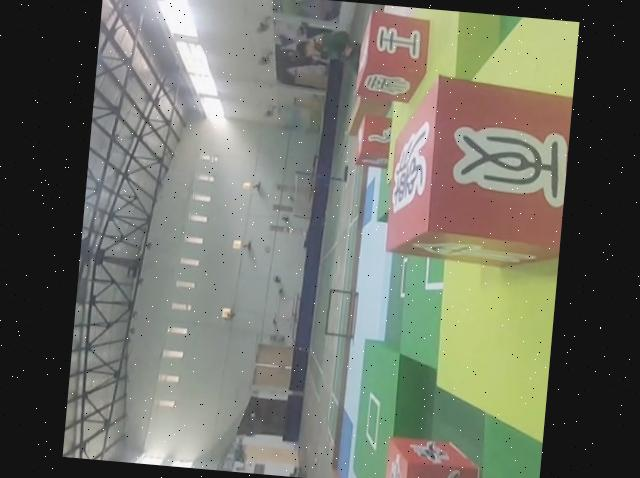R1: (379, 436, 485, 478)
R2 Fake: (382, 71, 573, 267), (351, 10, 429, 105)
R2 Real: (351, 116, 395, 170)
